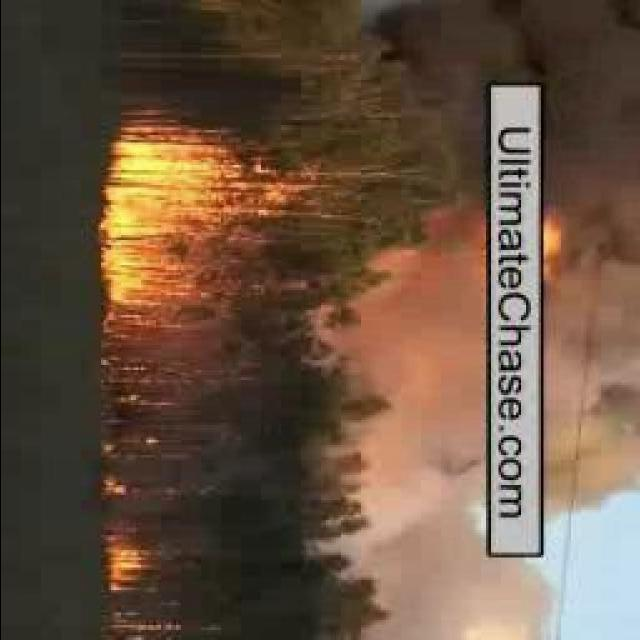Fire: (97, 118, 292, 332), (92, 341, 170, 462), (105, 530, 148, 596), (102, 616, 179, 640), (542, 222, 562, 276), (98, 479, 130, 496)
